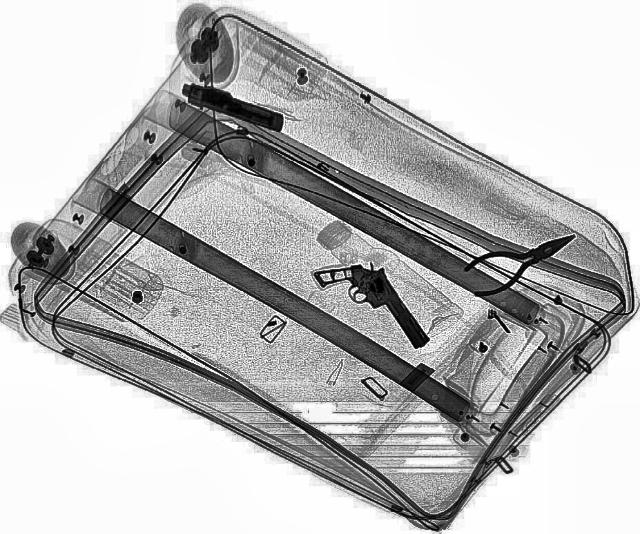Gun: (312, 248, 434, 366), (175, 78, 289, 132)
Pliers: (452, 218, 592, 300)
